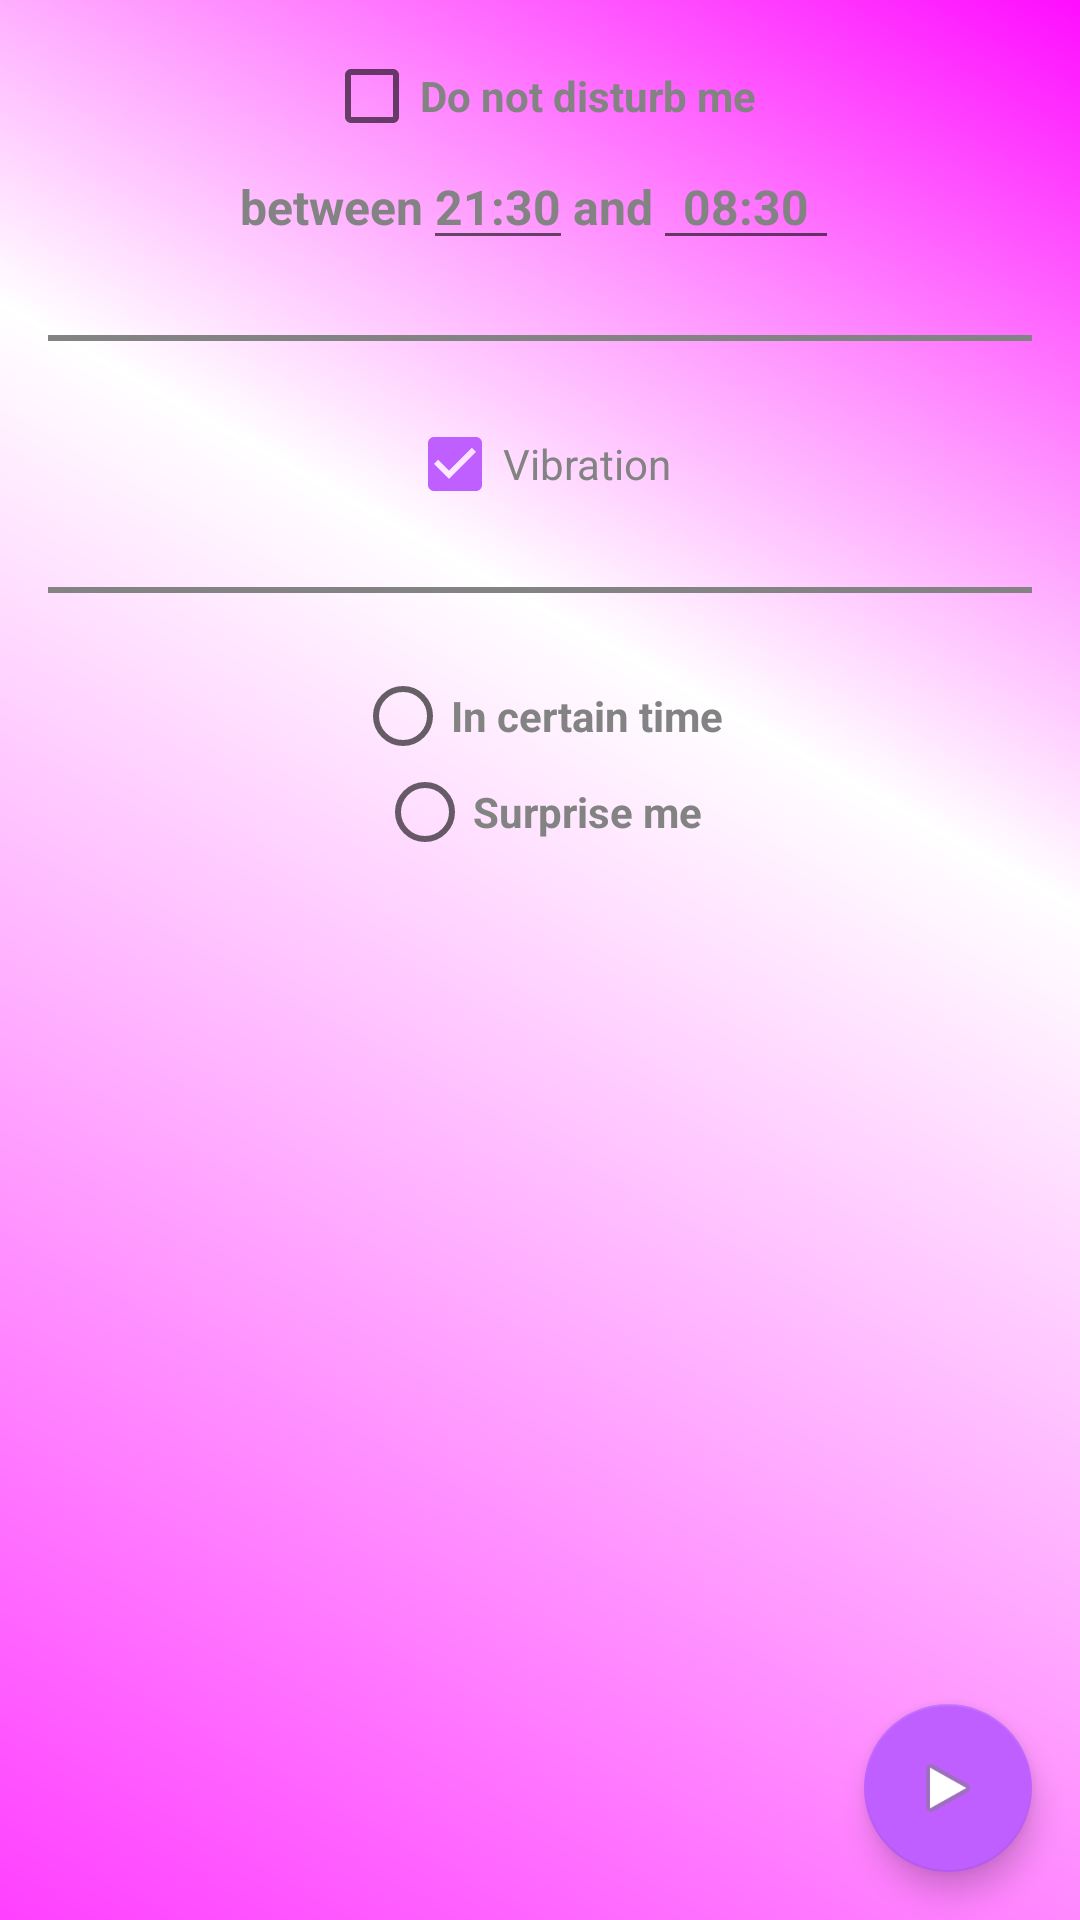

Locate icon controls on the screen. Image size 1080x1920, boxes as BBox(x1, y1, x2, y2).
play: BBox(864, 1704, 1032, 1872)
